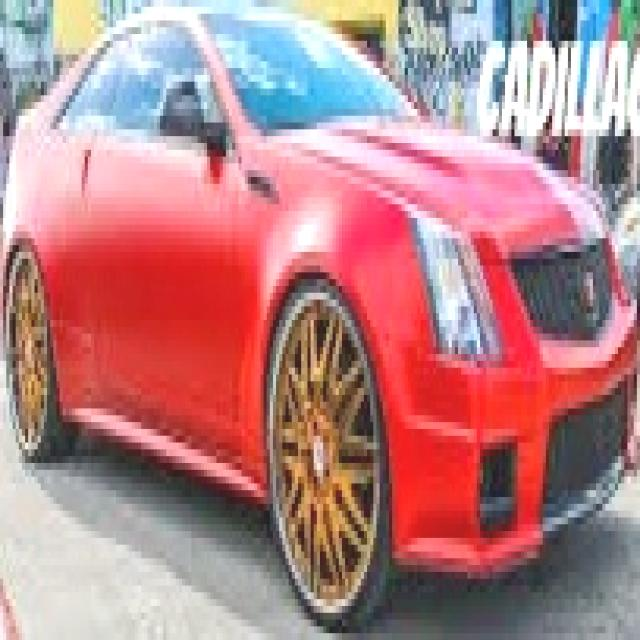red: (9, 11, 640, 555)
